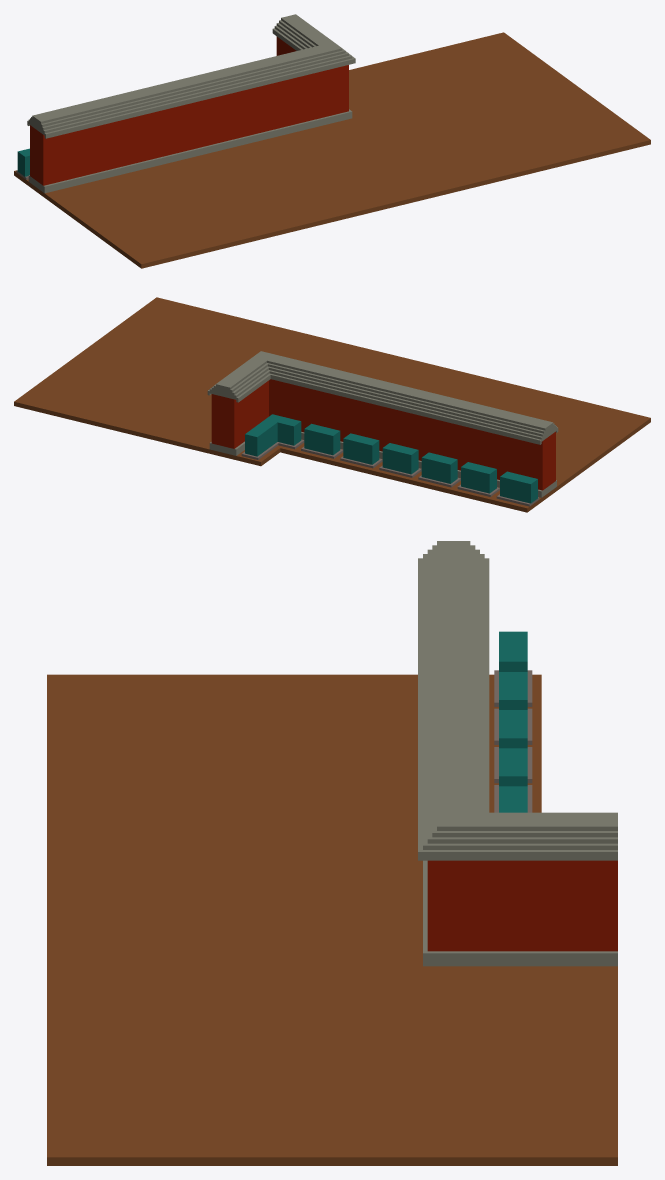
The model's file is Map-7.obj.
The picture shows the model from 3 angles, top to bottom: view 1: azimuth 30°, elevation 25°; view 2: azimuth 150°, elevation 25°; view 3: azimuth 270°, elevation 25°; orthographic projection. The views are drawn at different scales.
Bounding box in the file's own units: 24 × 3.3 × 12.
Materials: 1 (1 with a texture image).
